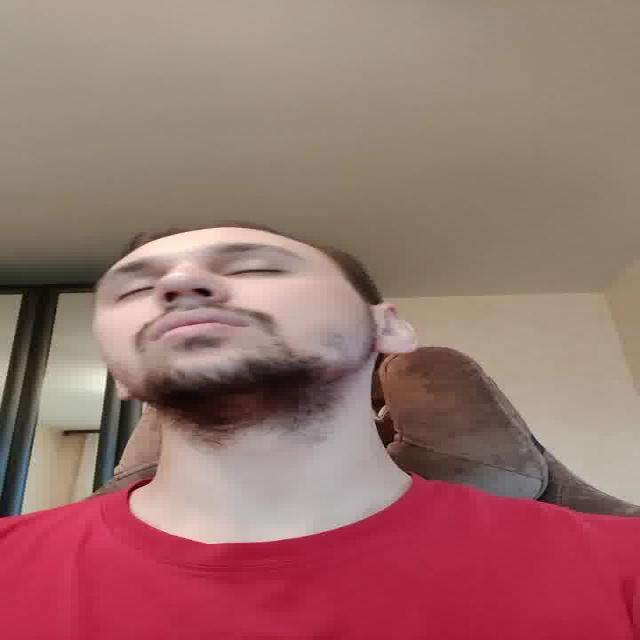earlobe: (372, 301, 420, 353)
